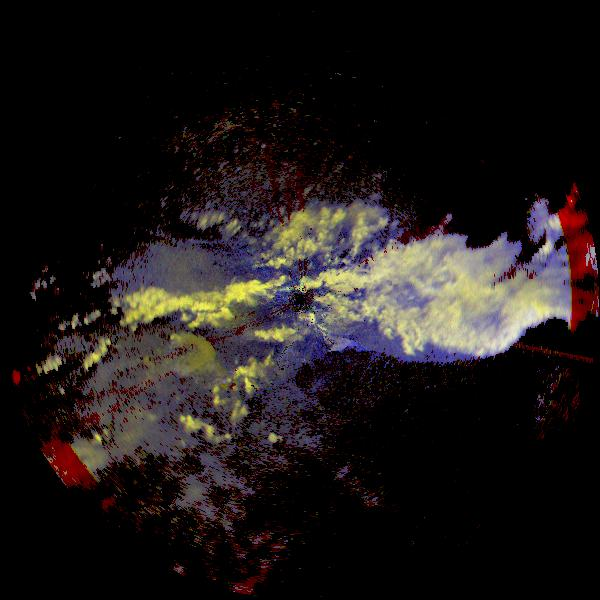roost: (137, 308, 236, 407)
